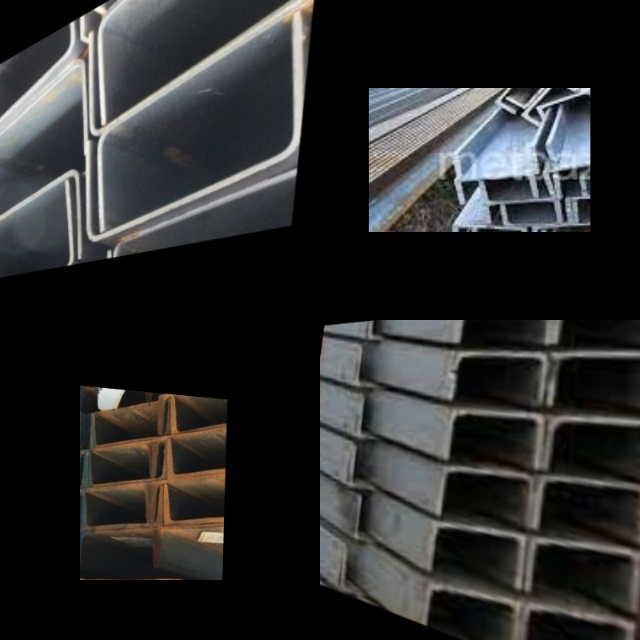Shveller: (94, 0, 314, 231), (85, 17, 307, 240), (85, 0, 320, 130), (97, 0, 320, 124), (0, 67, 89, 224), (524, 526, 640, 624), (0, 17, 84, 137), (0, 22, 78, 144), (535, 470, 640, 551), (425, 516, 524, 598), (438, 462, 533, 536), (445, 406, 545, 475), (547, 343, 640, 415), (422, 573, 519, 640), (545, 415, 640, 482), (449, 347, 549, 407), (522, 594, 633, 640), (153, 418, 227, 481), (92, 394, 167, 452), (82, 480, 161, 535), (87, 436, 164, 491), (168, 416, 227, 482), (157, 513, 224, 571), (163, 468, 225, 530), (157, 466, 225, 522), (80, 525, 154, 573), (80, 480, 152, 527), (158, 393, 227, 438), (456, 320, 554, 349), (552, 320, 640, 350), (171, 394, 227, 436), (456, 148, 537, 176), (457, 177, 536, 202), (523, 88, 575, 125), (482, 178, 559, 201), (81, 386, 146, 413), (504, 202, 570, 225), (549, 132, 590, 167), (544, 163, 590, 193), (488, 204, 561, 222), (538, 92, 590, 117), (496, 88, 544, 112), (508, 88, 554, 107), (87, 572, 181, 580)
